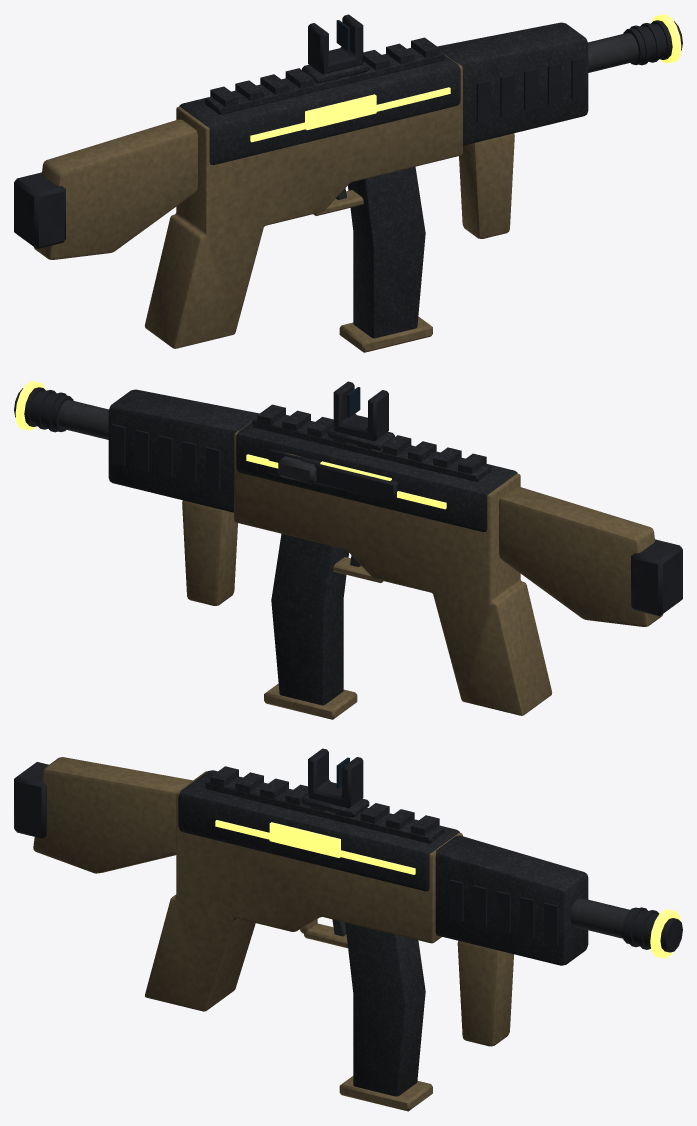
File: smg_r4.fbx
3 views of the same model, one above another, from view 1: azimuth 30°, elevation 25°; view 2: azimuth 150°, elevation 25°; view 3: azimuth 330°, elevation 25° (orthographic).
Visible parts, largest first — view 1: Body, Magazine, Glow; view 2: Body, Magazine, Bolt, Glow; view 3: Body, Magazine, Glow.
Part boxes in pixels (bbox=[...]): Body: bbox=[14, 14, 682, 348]; Magazine: bbox=[339, 166, 432, 352]; Glow: bbox=[250, 14, 681, 142]; Body: bbox=[14, 381, 682, 715]; Magazine: bbox=[264, 533, 357, 719]; Bolt: bbox=[268, 449, 398, 502]; Glow: bbox=[15, 381, 446, 509]; Body: bbox=[14, 748, 682, 1046]; Magazine: bbox=[339, 922, 432, 1111]; Glow: bbox=[215, 820, 680, 958].
Size of the model in its own units: 6.05 by 2.89 by 0.68.
Materials: 2 (1 with a texture image).
